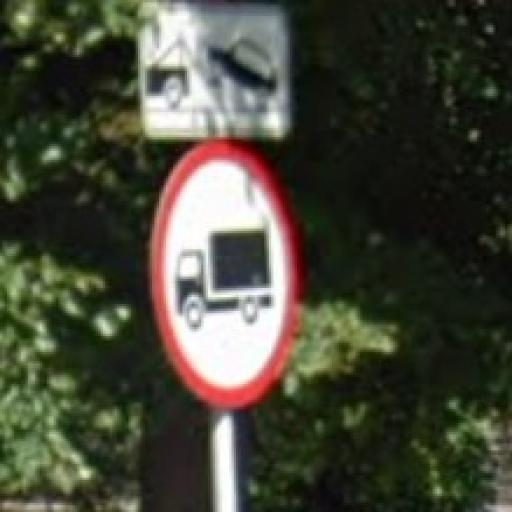traffic_sign: (148, 140, 305, 408)
